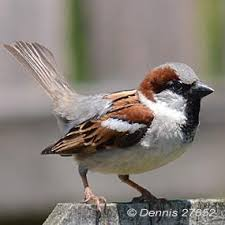hsparrow: (2, 36, 219, 216)
